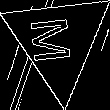M_E: (33, 15, 83, 67)
